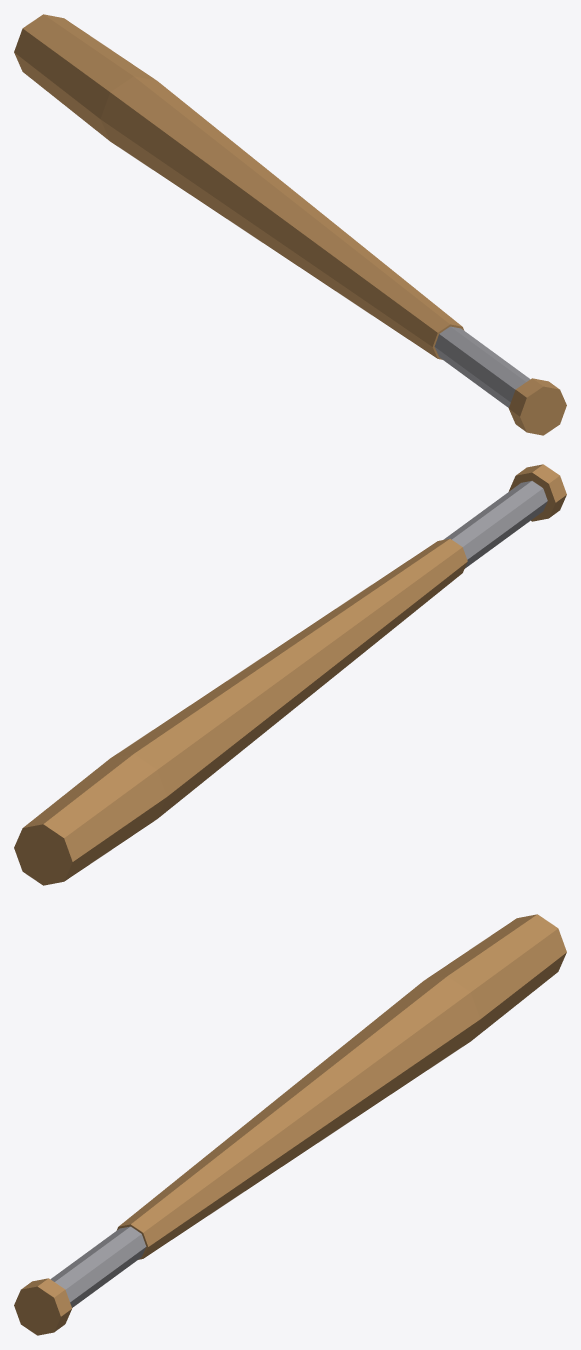
File: batte.glb
3 views of the same model, one above another, from view 1: azimuth 30°, elevation 25°; view 2: azimuth 150°, elevation 25°; view 3: azimuth 330°, elevation 25° (orthographic).
Parts seen in each view (by area): view 1: batte; view 2: batte; view 3: batte.
Boxes of the visible parts, bbox=[...] form: batte: bbox=[14, 14, 566, 435]; batte: bbox=[14, 464, 566, 885]; batte: bbox=[14, 914, 566, 1335].
Size of the model in its own units: 0.068 by 0.068 by 0.885.
